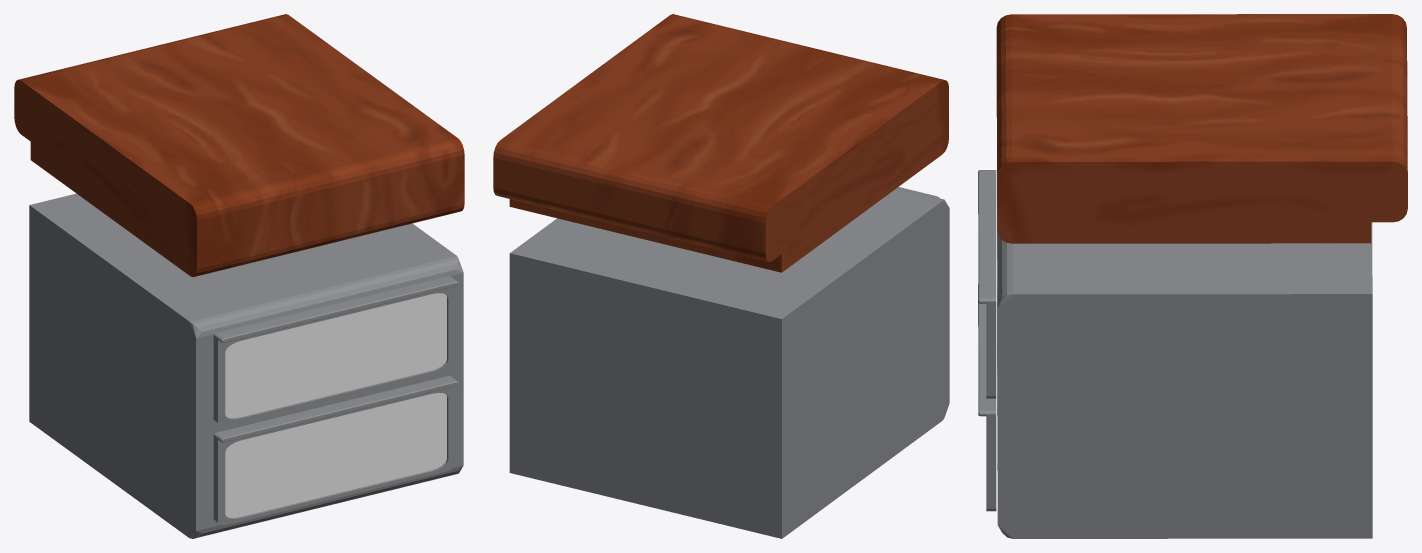
File: SM_Cabinet_Drawers_low.fbx
3 views of the same model, side by side, from view 1: azimuth 30°, elevation 25°; view 2: azimuth 150°, elevation 25°; view 3: azimuth 270°, elevation 25° (orthographic). The views are drawn at different scales.
Parts seen in each view (by area): view 1: Mitte_SGCabinet_R.TOP.002, Mitte_SGCabinet_R.BOTTOM.003, Cabinet Drawer_RoundGlass.001, Cabinet Drawer_RoundGlass.005, Cabinet Drawer_RoundGlass, Cabinet Drawer_RoundGlass.004; view 2: Mitte_SGCabinet_R.BOTTOM.003, Mitte_SGCabinet_R.TOP.002; view 3: Mitte_SGCabinet_R.BOTTOM.003, Mitte_SGCabinet_R.TOP.002, Cabinet Drawer_RoundGlass, Cabinet Drawer_RoundGlass.004.
Part boxes in pixels (x1=…): Mitte_SGCabinet_R.TOP.002: x1=14, y1=14, x2=464, y2=277; Mitte_SGCabinet_R.BOTTOM.003: x1=29, y1=193, x2=463, y2=538; Cabinet Drawer_RoundGlass.001: x1=225, y1=293, x2=446, y2=418; Cabinet Drawer_RoundGlass.005: x1=225, y1=393, x2=446, y2=517; Cabinet Drawer_RoundGlass: x1=213, y1=276, x2=458, y2=425; Cabinet Drawer_RoundGlass.004: x1=213, y1=376, x2=458, y2=525; Mitte_SGCabinet_R.BOTTOM.003: x1=509, y1=188, x2=949, y2=538; Mitte_SGCabinet_R.TOP.002: x1=493, y1=14, x2=948, y2=272; Mitte_SGCabinet_R.BOTTOM.003: x1=997, y1=173, x2=1372, y2=538; Mitte_SGCabinet_R.TOP.002: x1=996, y1=14, x2=1407, y2=243; Cabinet Drawer_RoundGlass: x1=978, y1=170, x2=996, y2=398; Cabinet Drawer_RoundGlass.004: x1=978, y1=284, x2=996, y2=511.
Bounding box in the file's own units: 295 × 350 × 361.
